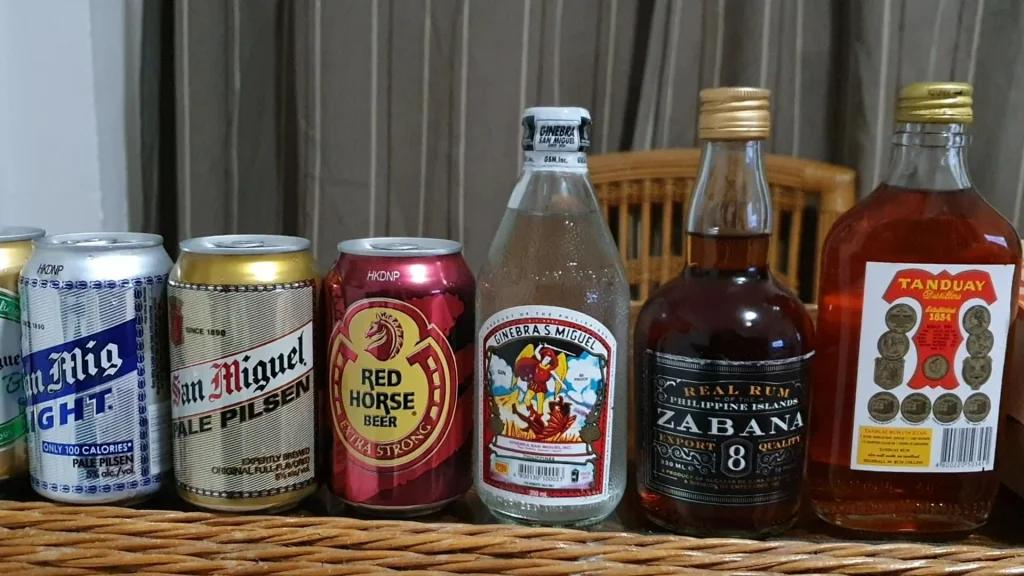can: (324, 237, 474, 517), (169, 234, 319, 511), (20, 232, 172, 504), (0, 225, 44, 498)
